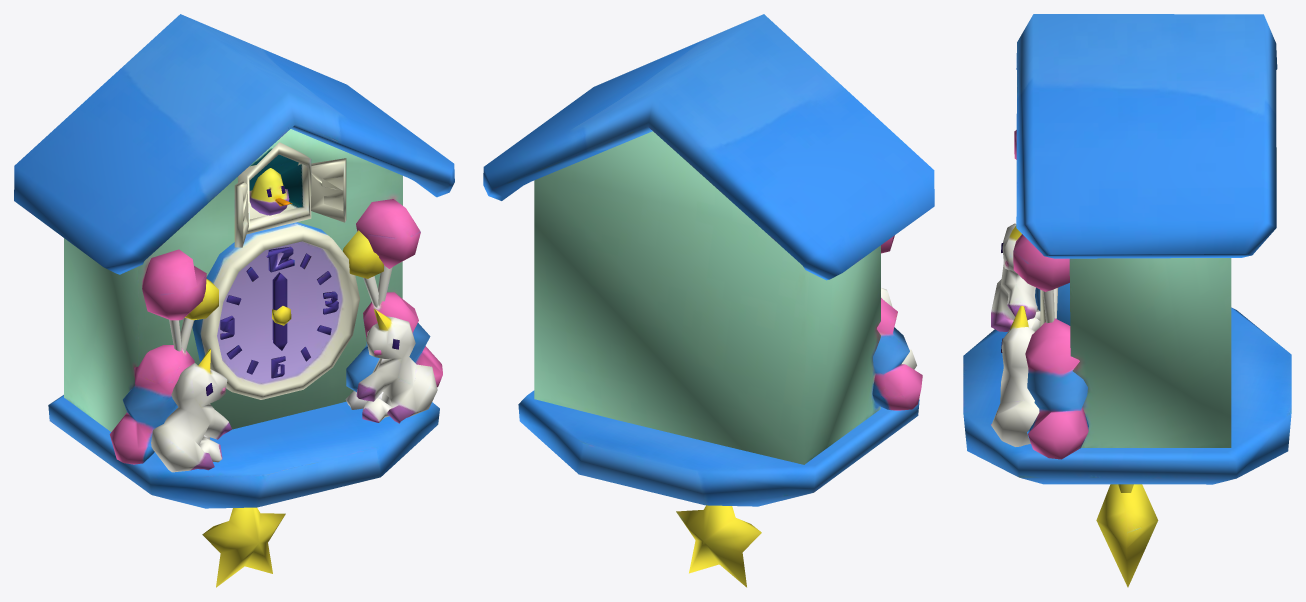
File: clock.glb
3 renders of one model, left to right at view 1: azimuth 30°, elevation 25°; view 2: azimuth 150°, elevation 25°; view 3: azimuth 270°, elevation 25°, orthographic. The views are drawn at different scales.
Parts seen in each view (by area): view 1: geometry_0; view 2: geometry_0; view 3: geometry_0.
Part boxes in pixels (x1,y1,x2,y2): geometry_0: (14,14,454,587); geometry_0: (483,14,934,587); geometry_0: (963,14,1291,587).
Size of the model in its own units: 67.14 by 95.26 by 50.73.
1 material, 1 textured.
